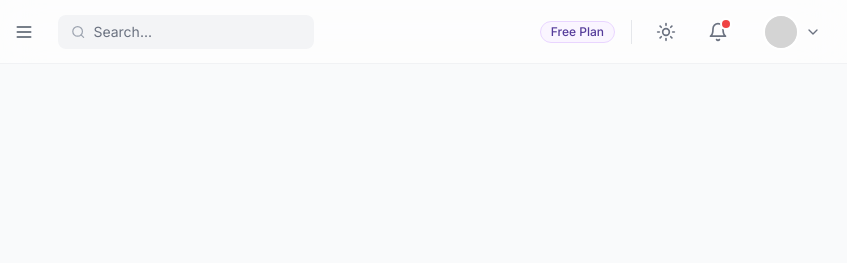
Scenario: Header Accessibility › should have accessible user menu
# Open user menu
Click the button named "user account menu": (795, 32) left=760, top=10, right=830, bottom=52
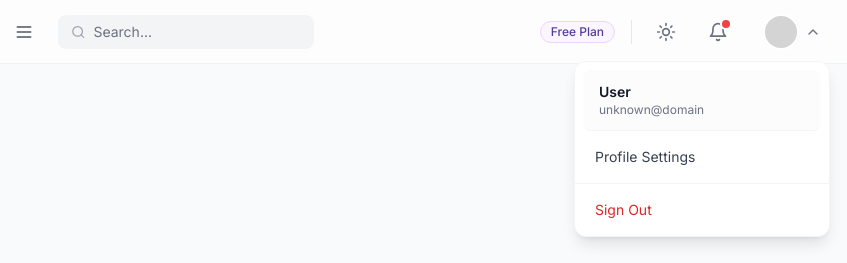
expect the button named "user account menu" is expanded: met, box left=760, top=10, right=830, bottom=52
expect the menu is shown: met, box left=574, top=60, right=830, bottom=236
